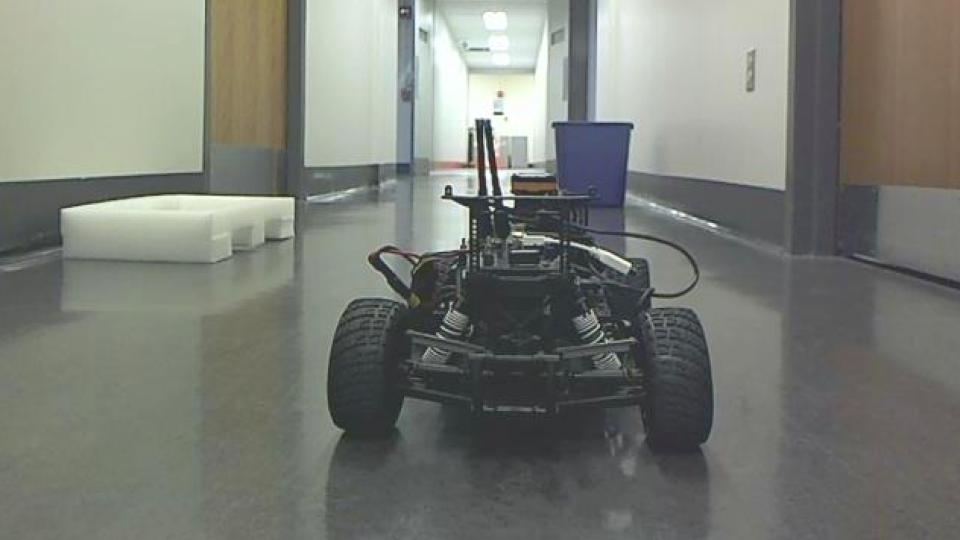car: (324, 115, 718, 455)
